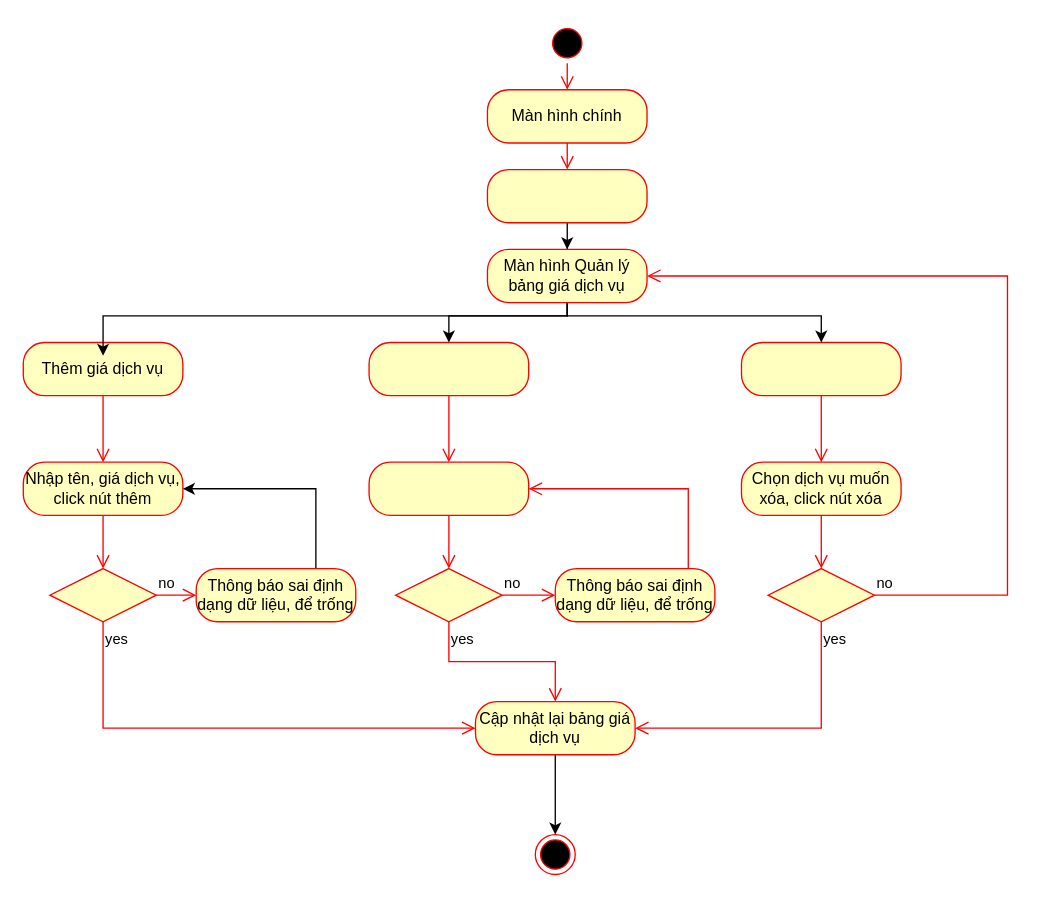
The diagram is 1044 pixels wide and 898 high, and some of its shapes have lost their labels. The centre of each missing label's shape, as x and y in pixels:
Chọn "Quản lý bảng giá dịch vụ": the point at 566,195
Chọn dịch vụ muốn sửa, nhập giá, click nút cập nhật: the point at 448,488
Sửa giá dịch vụ: the point at 448,368
Xóa dịch vụ: the point at 820,368
